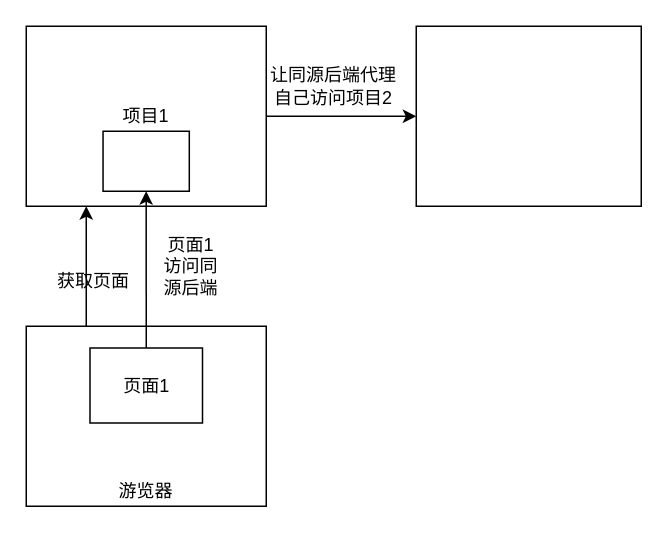
The diagram is 668 pixels wide and 533 high, and some of its shapes have lost their labels. The centre of each missing label's shape, as x and y in pixels:
代理: pixel 145 160
项目2: pixel 528 115
